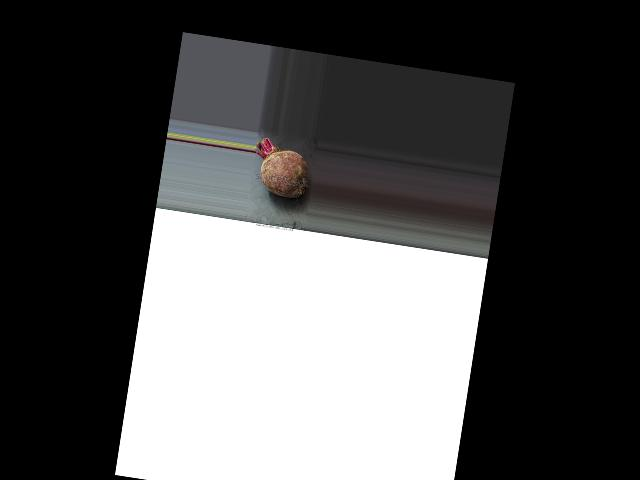beet: (248, 136, 312, 199)
